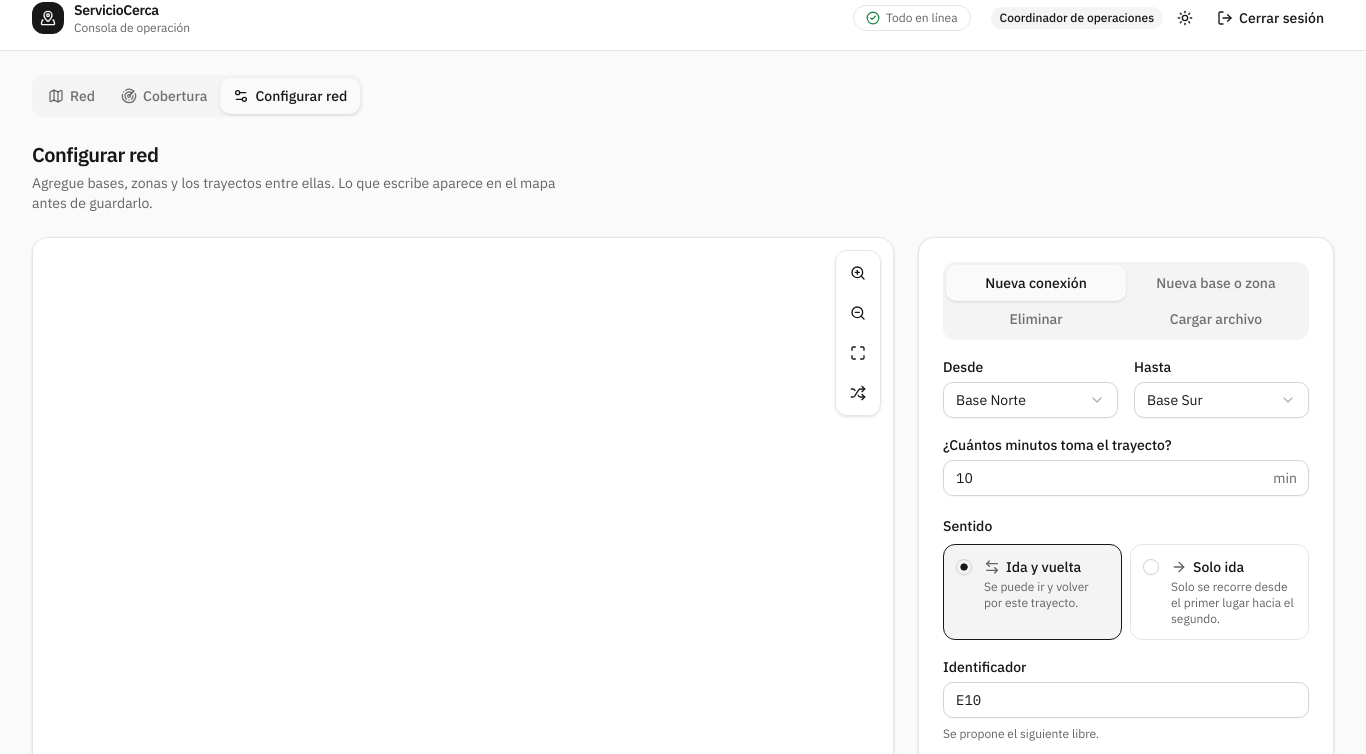
Scenario: Nueva conexión › pide los minutos y dos lugares distintos
The image size is (1366, 754).
Expected: the heading "Configurar red" is shown, [32, 141, 158, 168]
Step 1. Clear the number field labelled "¿Cuántos minutos toma el trayecto?" → (1126, 478), box [943, 460, 1309, 496]
(page scrolled)
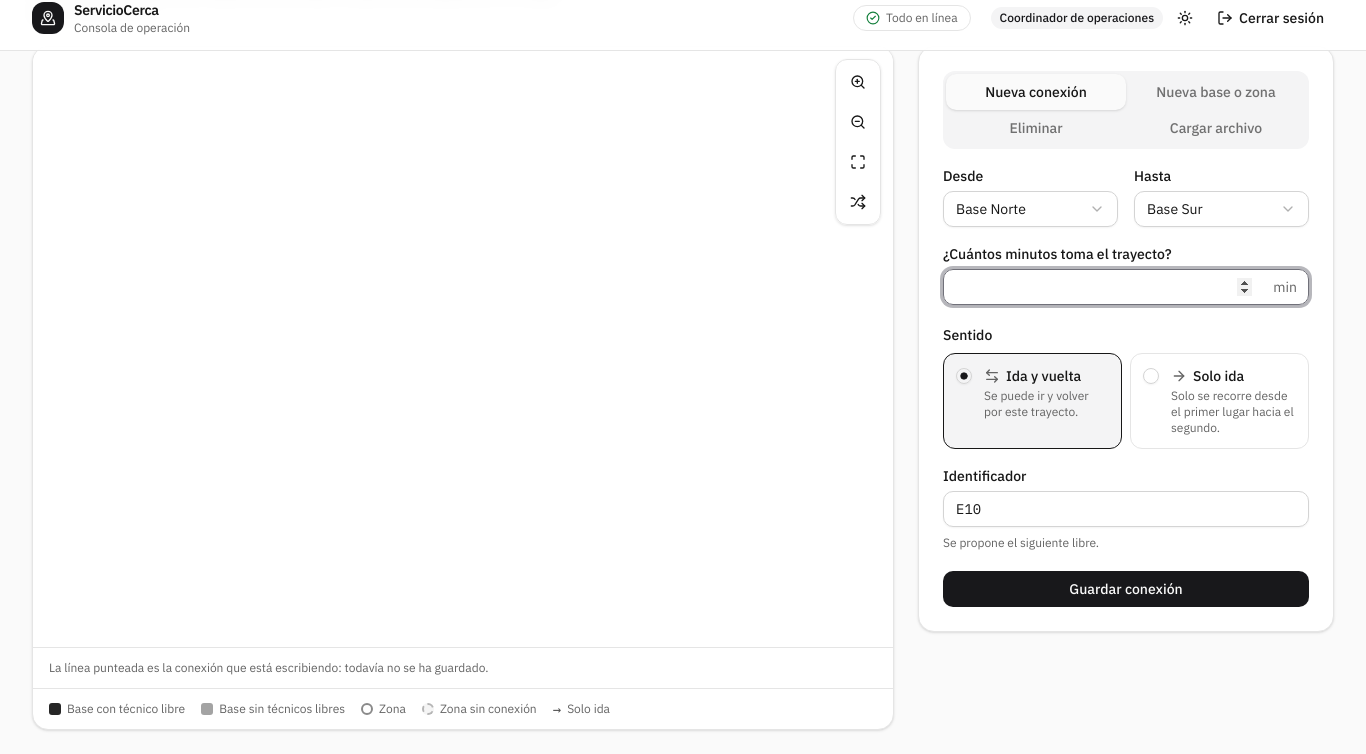
Step 2. Click the button "Guardar conexión" → (1126, 589), box [943, 571, 1309, 607]
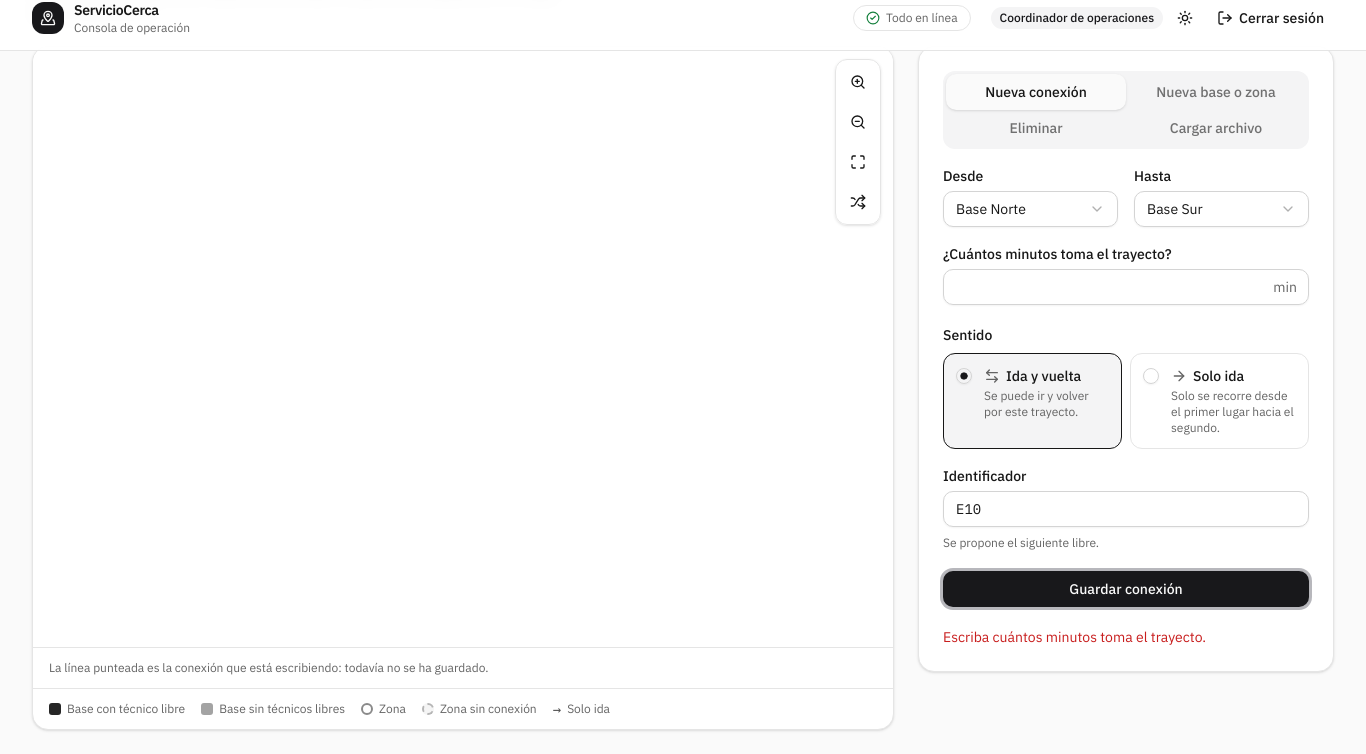
Expected: the message "Escriba cuántos minutos toma el trayecto." is shown, [943, 628, 1206, 646]
Step 3. Click the dropdown named "Hasta" → (1222, 209), box [1134, 191, 1309, 227]
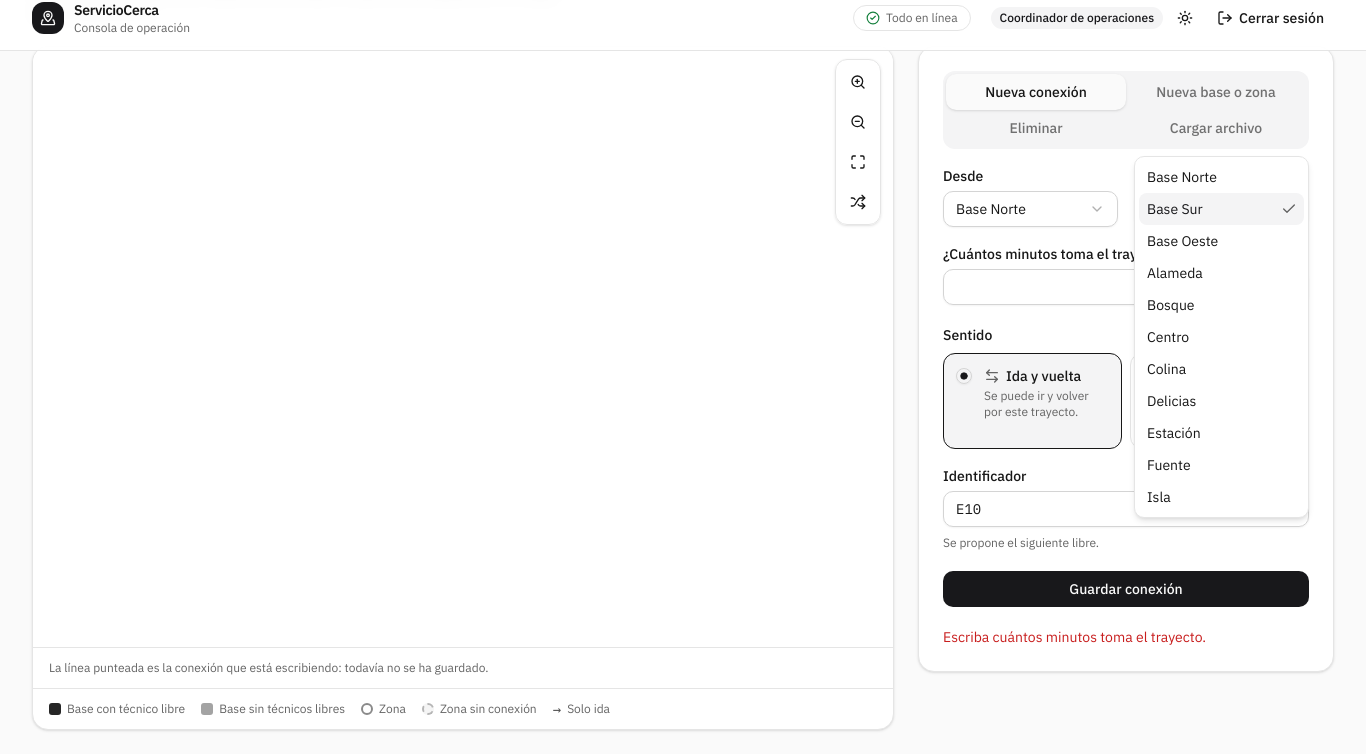
Step 4. Click the option "Base Norte" → (1182, 177), box [1147, 168, 1217, 186]
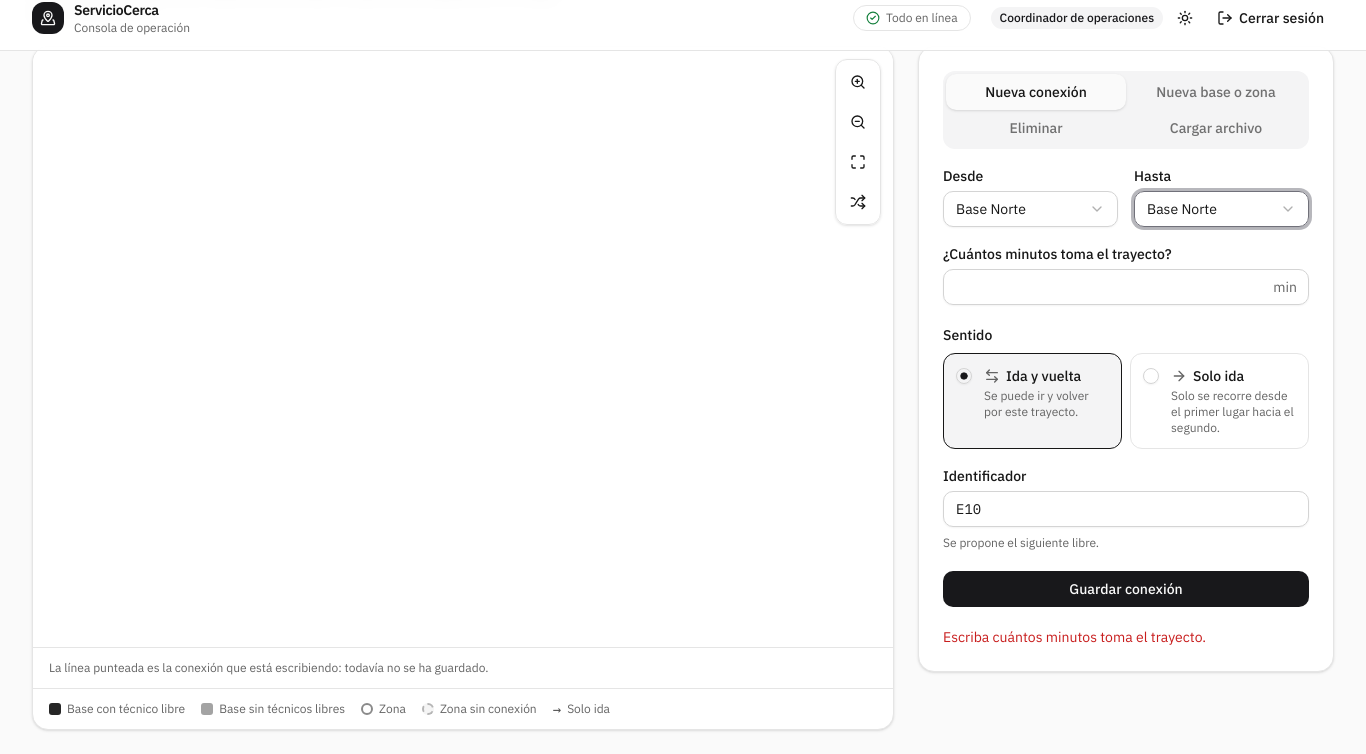
Step 5. Click the button "Guardar conexión" → (1126, 589), box [943, 571, 1309, 607]
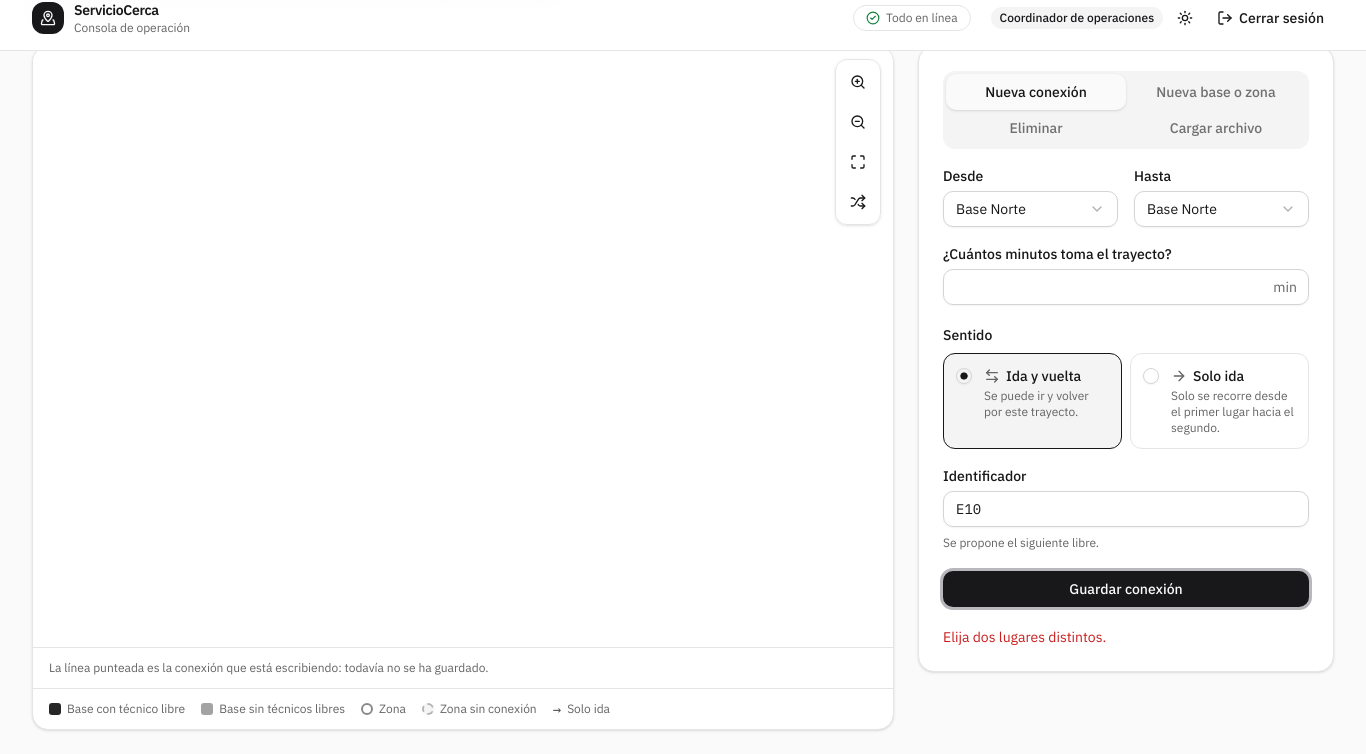
Expected: the message "Elija dos lugares distintos." is shown, [943, 628, 1106, 646]
